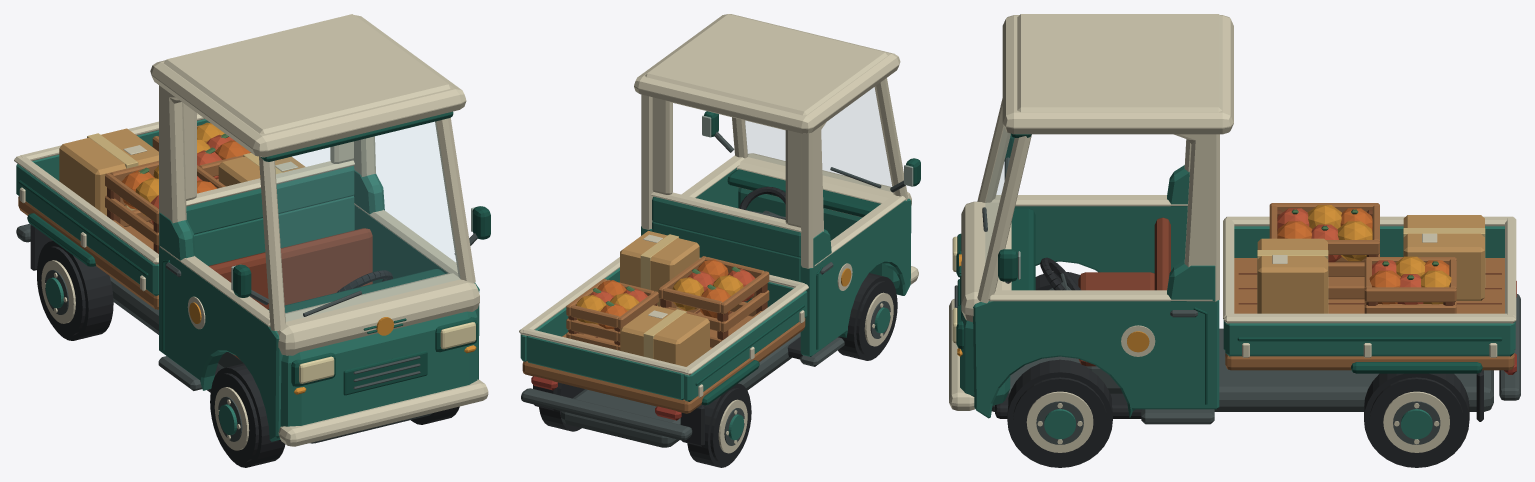
The picture shows the model from 3 angles, left to right: view 1: azimuth 30°, elevation 25°; view 2: azimuth 150°, elevation 25°; view 3: azimuth 270°, elevation 25°; orthographic projection. The views are drawn at different scales.
Visible parts, largest first — view 1: truck_mesh, windscreen, cargo_load_mesh, wheel_rear_R_mesh, wheel_front_R_mesh; view 2: truck_mesh, cargo_load_mesh, windscreen, wheel_front_R_mesh, wheel_rear_R_mesh, wheel_rear_L_mesh, steering_wheel_mesh; view 3: truck_mesh, cargo_load_mesh, wheel_front_L_mesh, wheel_rear_L_mesh, windscreen, steering_wheel_mesh.
Boxes of the visible parts, x1,y1,x2,y2 form: truck_mesh: [14, 14, 490, 446]; windscreen: [275, 122, 459, 320]; cargo_load_mesh: [59, 122, 305, 253]; wheel_rear_R_mesh: [37, 241, 113, 340]; wheel_front_R_mesh: [210, 363, 285, 467]; truck_mesh: [519, 14, 920, 447]; cargo_load_mesh: [566, 231, 769, 366]; windscreen: [745, 88, 891, 190]; wheel_front_R_mesh: [838, 273, 897, 360]; wheel_rear_R_mesh: [687, 383, 751, 467]; wheel_rear_L_mesh: [539, 382, 584, 431]; steering_wheel_mesh: [739, 186, 785, 219]; truck_mesh: [949, 14, 1520, 424]; cargo_load_mesh: [1257, 203, 1485, 313]; wheel_front_L_mesh: [1007, 359, 1112, 467]; wheel_rear_L_mesh: [1364, 373, 1469, 467]; windscreen: [986, 129, 1013, 256]; steering_wheel_mesh: [1040, 257, 1080, 290].
Bounding box in the file's own units: 1.96 × 2.57 × 3.74.
